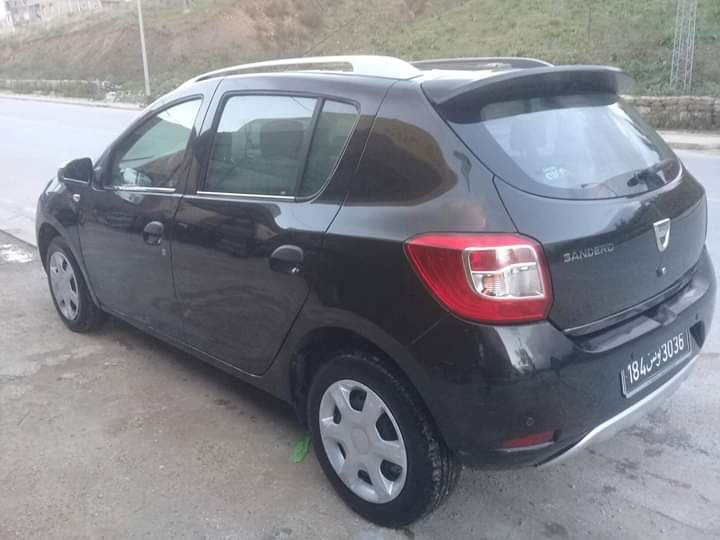LP: (624, 325, 688, 396)
